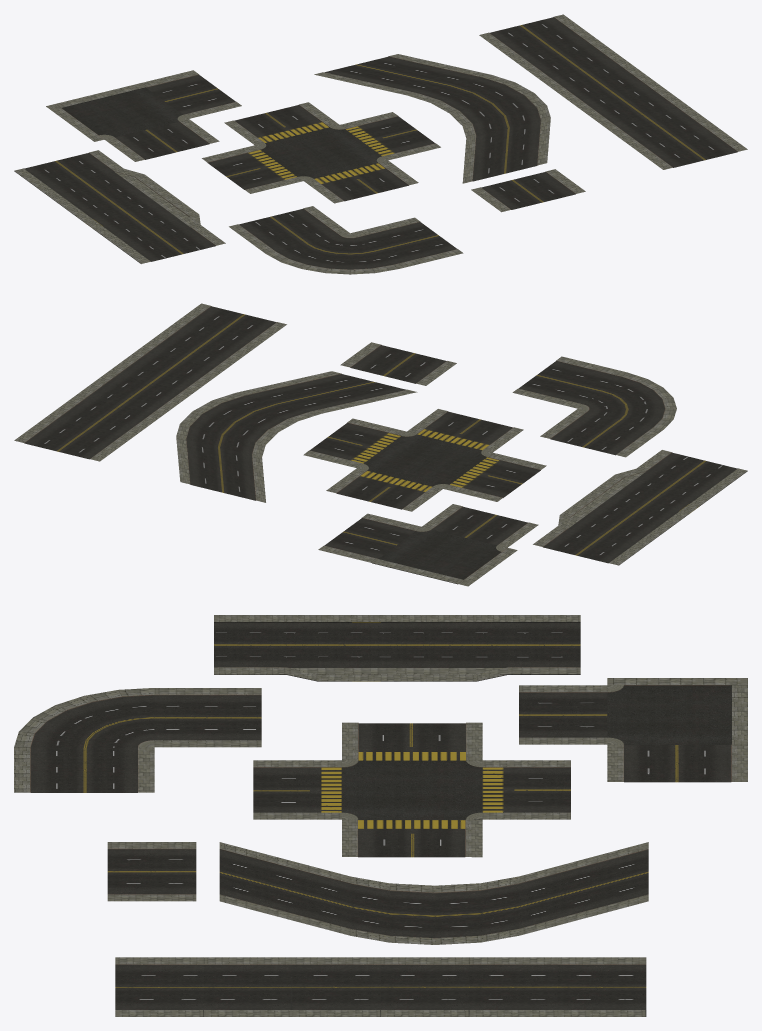
The model's file is road_2.glb.
3 renders of one model, top to bottom at view 1: azimuth 30°, elevation 25°; view 2: azimuth 150°, elevation 25°; view 3: azimuth 270°, elevation 25°, orthographic. The views are drawn at different scales.
Visible parts, largest first — view 1: Plane.017, Plane.006, Plane.003, Plane.019, Plane.005, Plane.011, Plane.002; view 2: Plane.017, Plane.006, Plane.003, Plane.019, Plane.005, Plane.011, Plane.002; view 3: Plane.017, Plane.006, Plane.003, Plane.019, Plane.005, Plane.011, Plane.002.
Boxes of the visible parts, left/top/right/bottom form: Plane.017: left=479, top=14, right=747, bottom=169; Plane.006: left=202, top=102, right=440, bottom=203; Plane.003: left=314, top=54, right=550, bottom=183; Plane.019: left=14, top=150, right=225, bottom=263; Plane.005: left=46, top=70, right=241, bottom=161; Plane.011: left=229, top=206, right=463, bottom=274; Plane.002: left=471, top=169, right=585, bottom=212; Plane.017: left=14, top=303, right=286, bottom=461; Plane.006: left=303, top=409, right=546, bottom=511; Plane.003: left=176, top=371, right=417, bottom=502; Plane.019: left=533, top=450, right=747, bottom=565; Plane.005: left=318, top=504, right=538, bottom=586; Plane.011: left=512, top=356, right=676, bottom=457; Plane.002: left=340, top=342, right=456, bottom=385; Plane.017: left=115, top=957, right=646, bottom=1016; Plane.006: left=253, top=722, right=570, bottom=857; Plane.003: left=219, top=842, right=648, bottom=944; Plane.019: left=214, top=615, right=580, bottom=681; Plane.005: left=519, top=678, right=747, bottom=782; Plane.011: left=14, top=688, right=261, bottom=792; Plane.002: left=107, top=842, right=196, bottom=901.
Size of the model in its own units: 17.73 by 0.01 by 13.69.
Materials: 1 (1 with a texture image).
